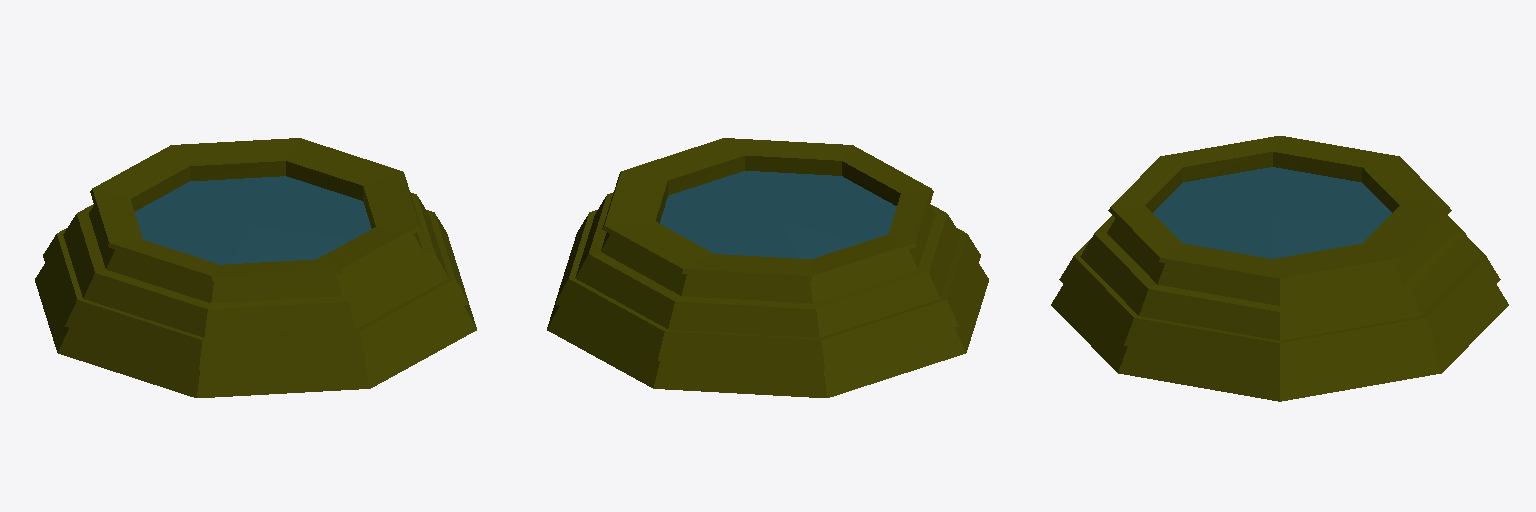
Rendered from Trampa1.obj.
3 renders of one model, left to right at view 1: azimuth 30°, elevation 25°; view 2: azimuth 150°, elevation 25°; view 3: azimuth 270°, elevation 25°, orthographic.
Parts seen in each view (by area): view 1: pCylinder5; view 2: pCylinder5; view 3: pCylinder5.
Boxes of the visible parts, <box> form: pCylinder5: <box>35,138,476,397</box>; pCylinder5: <box>547,138,988,397</box>; pCylinder5: <box>1051,136,1508,401</box>.
Size of the model in its own units: 4.92 by 1.16 by 4.92.